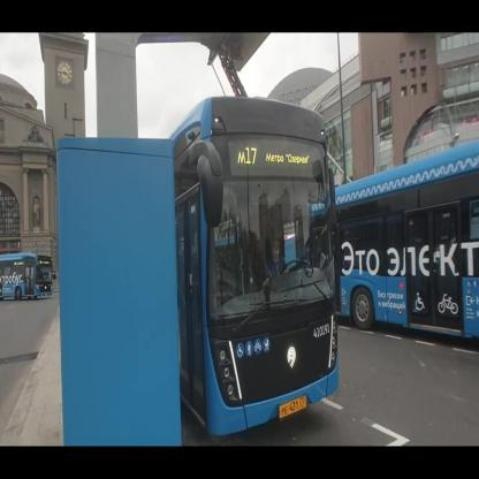bus: (173, 99, 339, 439), (333, 138, 479, 345), (0, 253, 53, 301)
